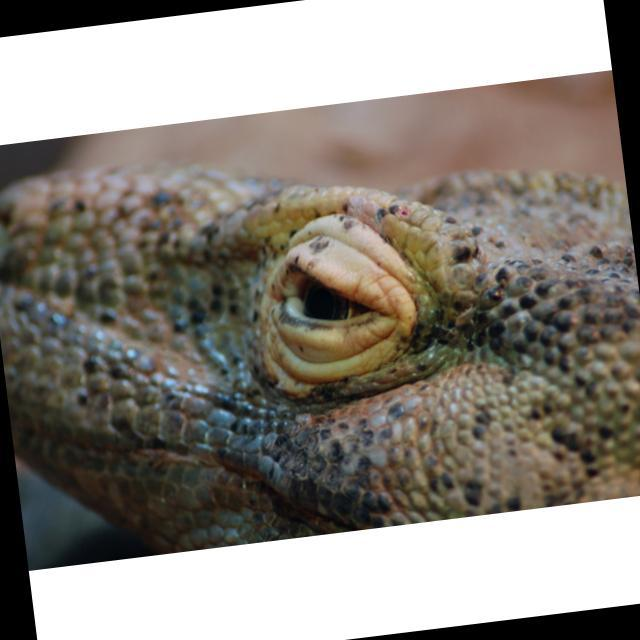KomodoDragon: (0, 94, 640, 568)
